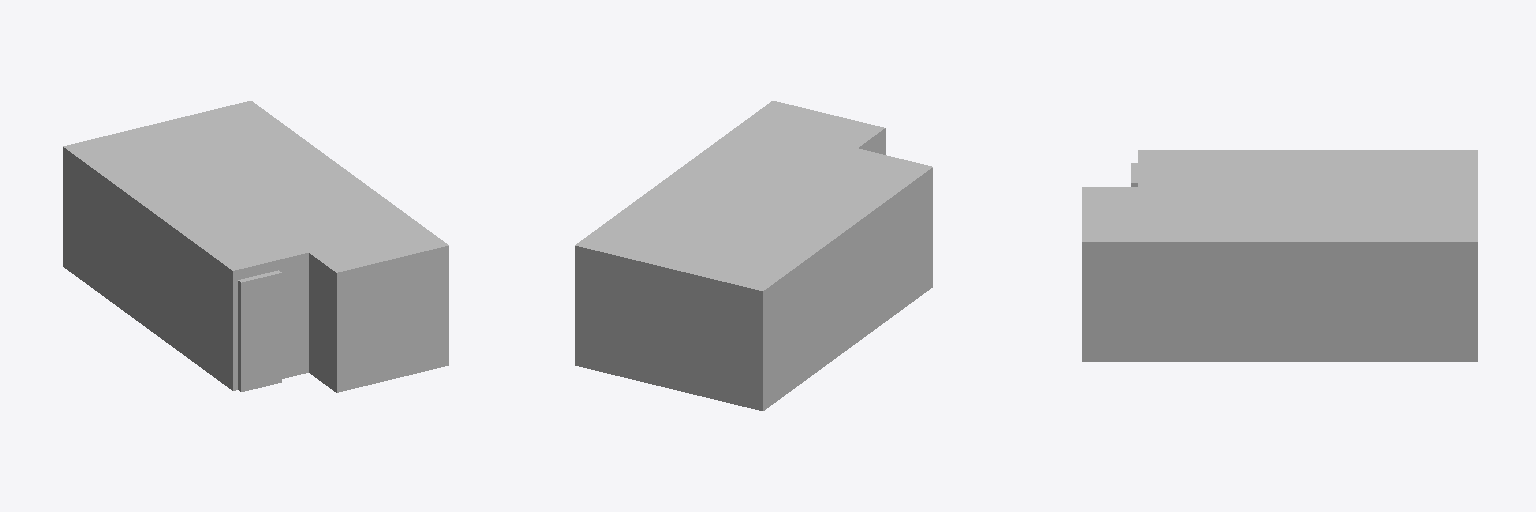
3 renders of one model, left to right at view 1: azimuth 30°, elevation 25°; view 2: azimuth 150°, elevation 25°; view 3: azimuth 270°, elevation 25°, orthographic.
Parts seen in each view (by area): view 1: Plane; view 2: Plane; view 3: Plane.
Part boxes in pixels (x1,y1,x2,y2): Plane: (63, 101, 448, 392); Plane: (575, 101, 932, 410); Plane: (1082, 150, 1477, 361).
Size of the model in its own units: 4.11 by 2.5 by 7.47.